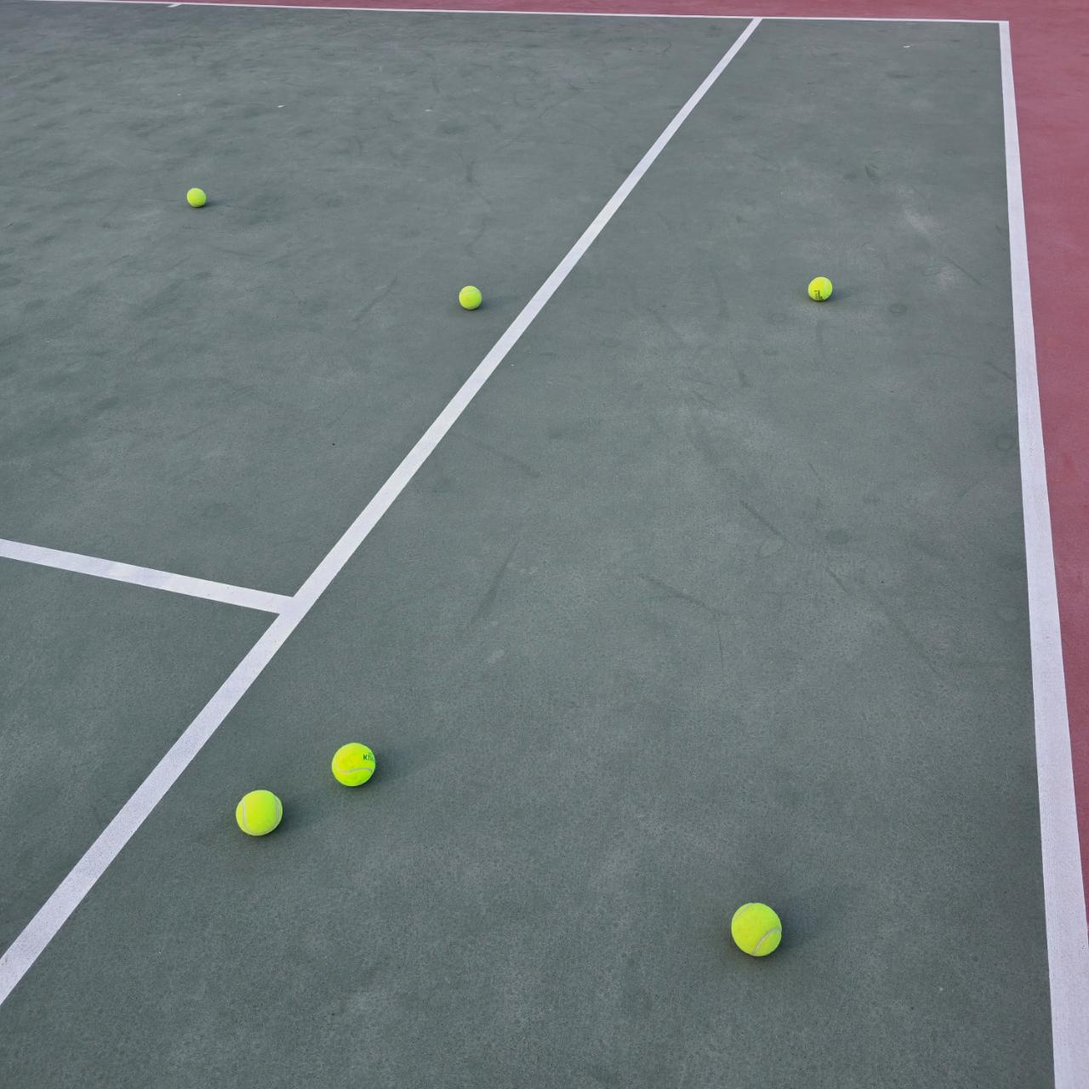tennis-ball: (730, 899, 784, 957), (235, 786, 285, 837), (331, 740, 378, 787), (807, 274, 835, 301), (459, 283, 485, 310), (186, 185, 208, 207)
